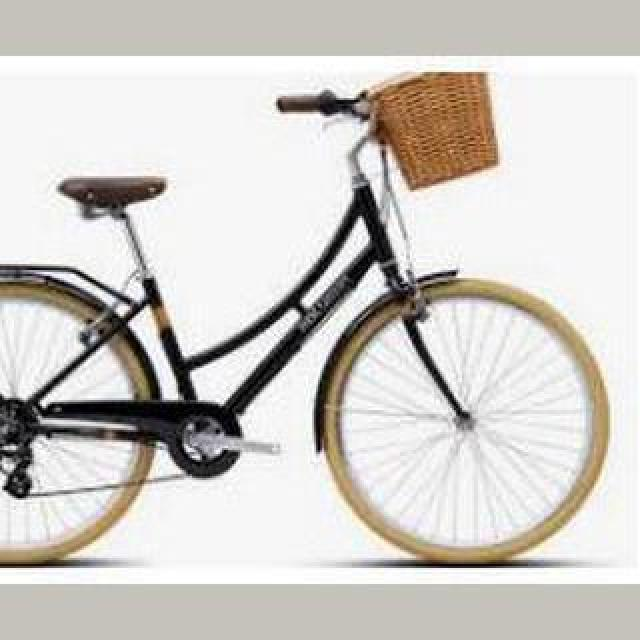Person: (0, 70, 616, 568)
